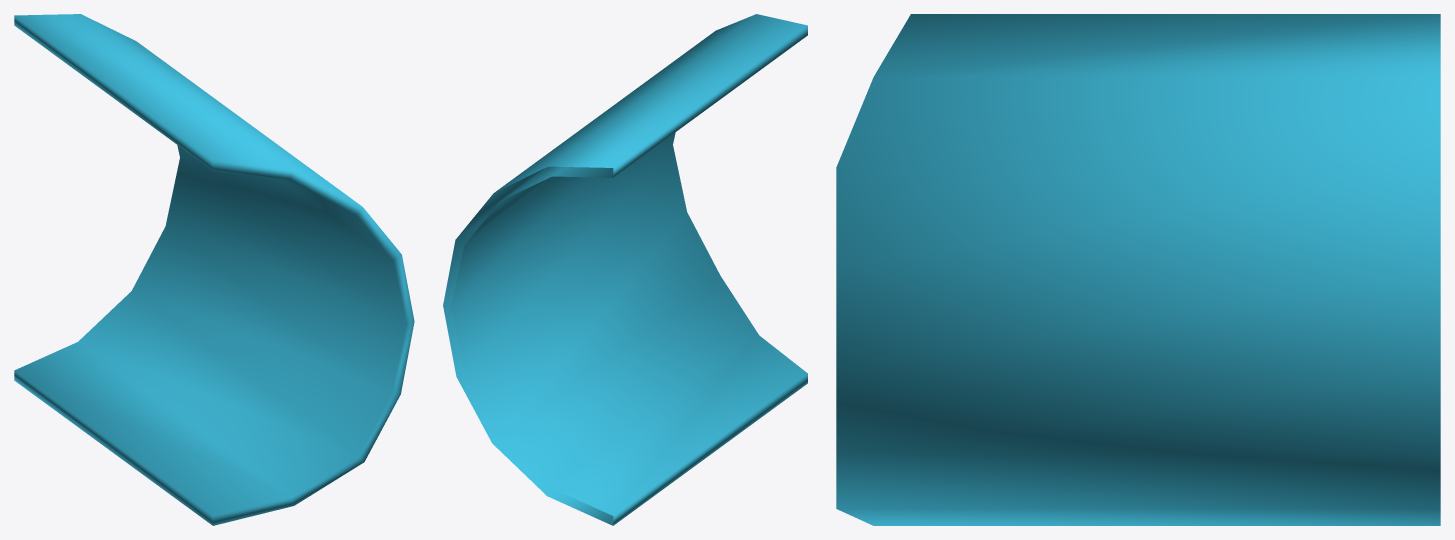
Rendered from glass2.fbx.
The picture shows the model from 3 angles, left to right: view 1: azimuth 30°, elevation 25°; view 2: azimuth 150°, elevation 25°; view 3: azimuth 270°, elevation 25°; orthographic projection. The views are drawn at different scales.
Parts seen in each view (by area): view 1: Plane_462; view 2: Plane_462; view 3: Plane_462.
Boxes of the visible parts, <box> form: Plane_462: <box>14,14,414,525</box>; Plane_462: <box>443,14,807,525</box>; Plane_462: <box>836,14,1440,525</box>.
Size of the model in its own units: 3.58 by 7.2 by 8.1.
Materials: 1 (1 with a texture image).
